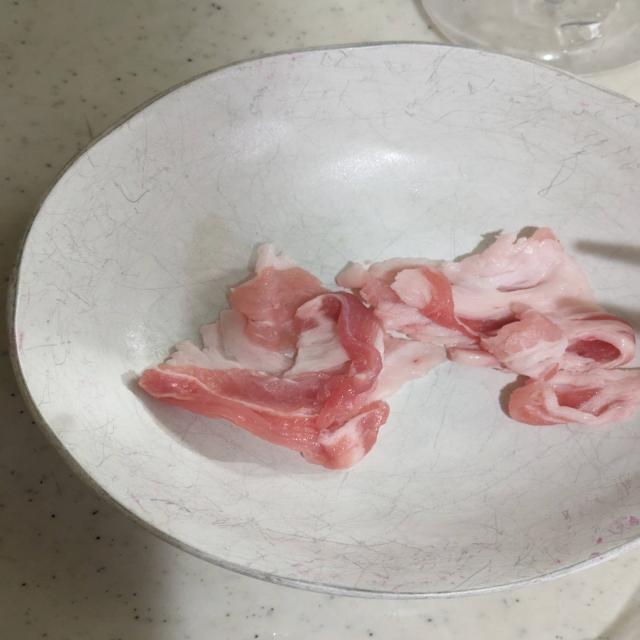NG raw pork,: (112, 232, 453, 480), (319, 208, 640, 434)
